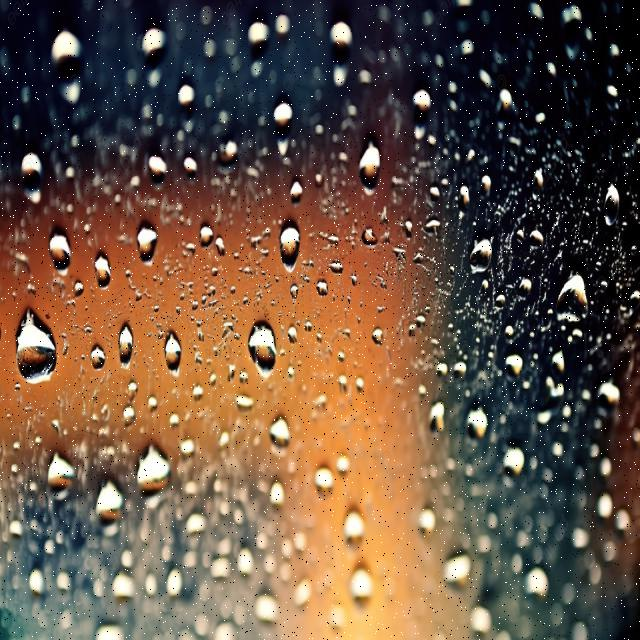raindrop: (36, 442, 92, 512), (12, 310, 58, 392), (128, 446, 181, 516), (92, 462, 130, 558), (322, 12, 362, 100), (336, 556, 386, 626), (547, 266, 594, 338), (47, 21, 84, 108), (434, 548, 478, 614), (338, 494, 374, 565), (135, 27, 172, 95), (534, 342, 571, 408), (268, 80, 299, 158), (407, 492, 447, 550), (250, 314, 282, 384), (130, 214, 163, 280), (16, 142, 48, 210), (262, 398, 294, 462), (152, 320, 182, 386), (494, 439, 530, 494), (456, 399, 494, 451), (353, 132, 382, 200), (464, 229, 498, 287), (310, 458, 346, 511), (406, 74, 434, 142), (174, 76, 202, 142), (272, 216, 300, 280), (596, 171, 622, 236), (45, 218, 72, 276), (116, 314, 136, 379), (84, 328, 108, 380), (90, 246, 112, 298), (140, 156, 170, 192)
